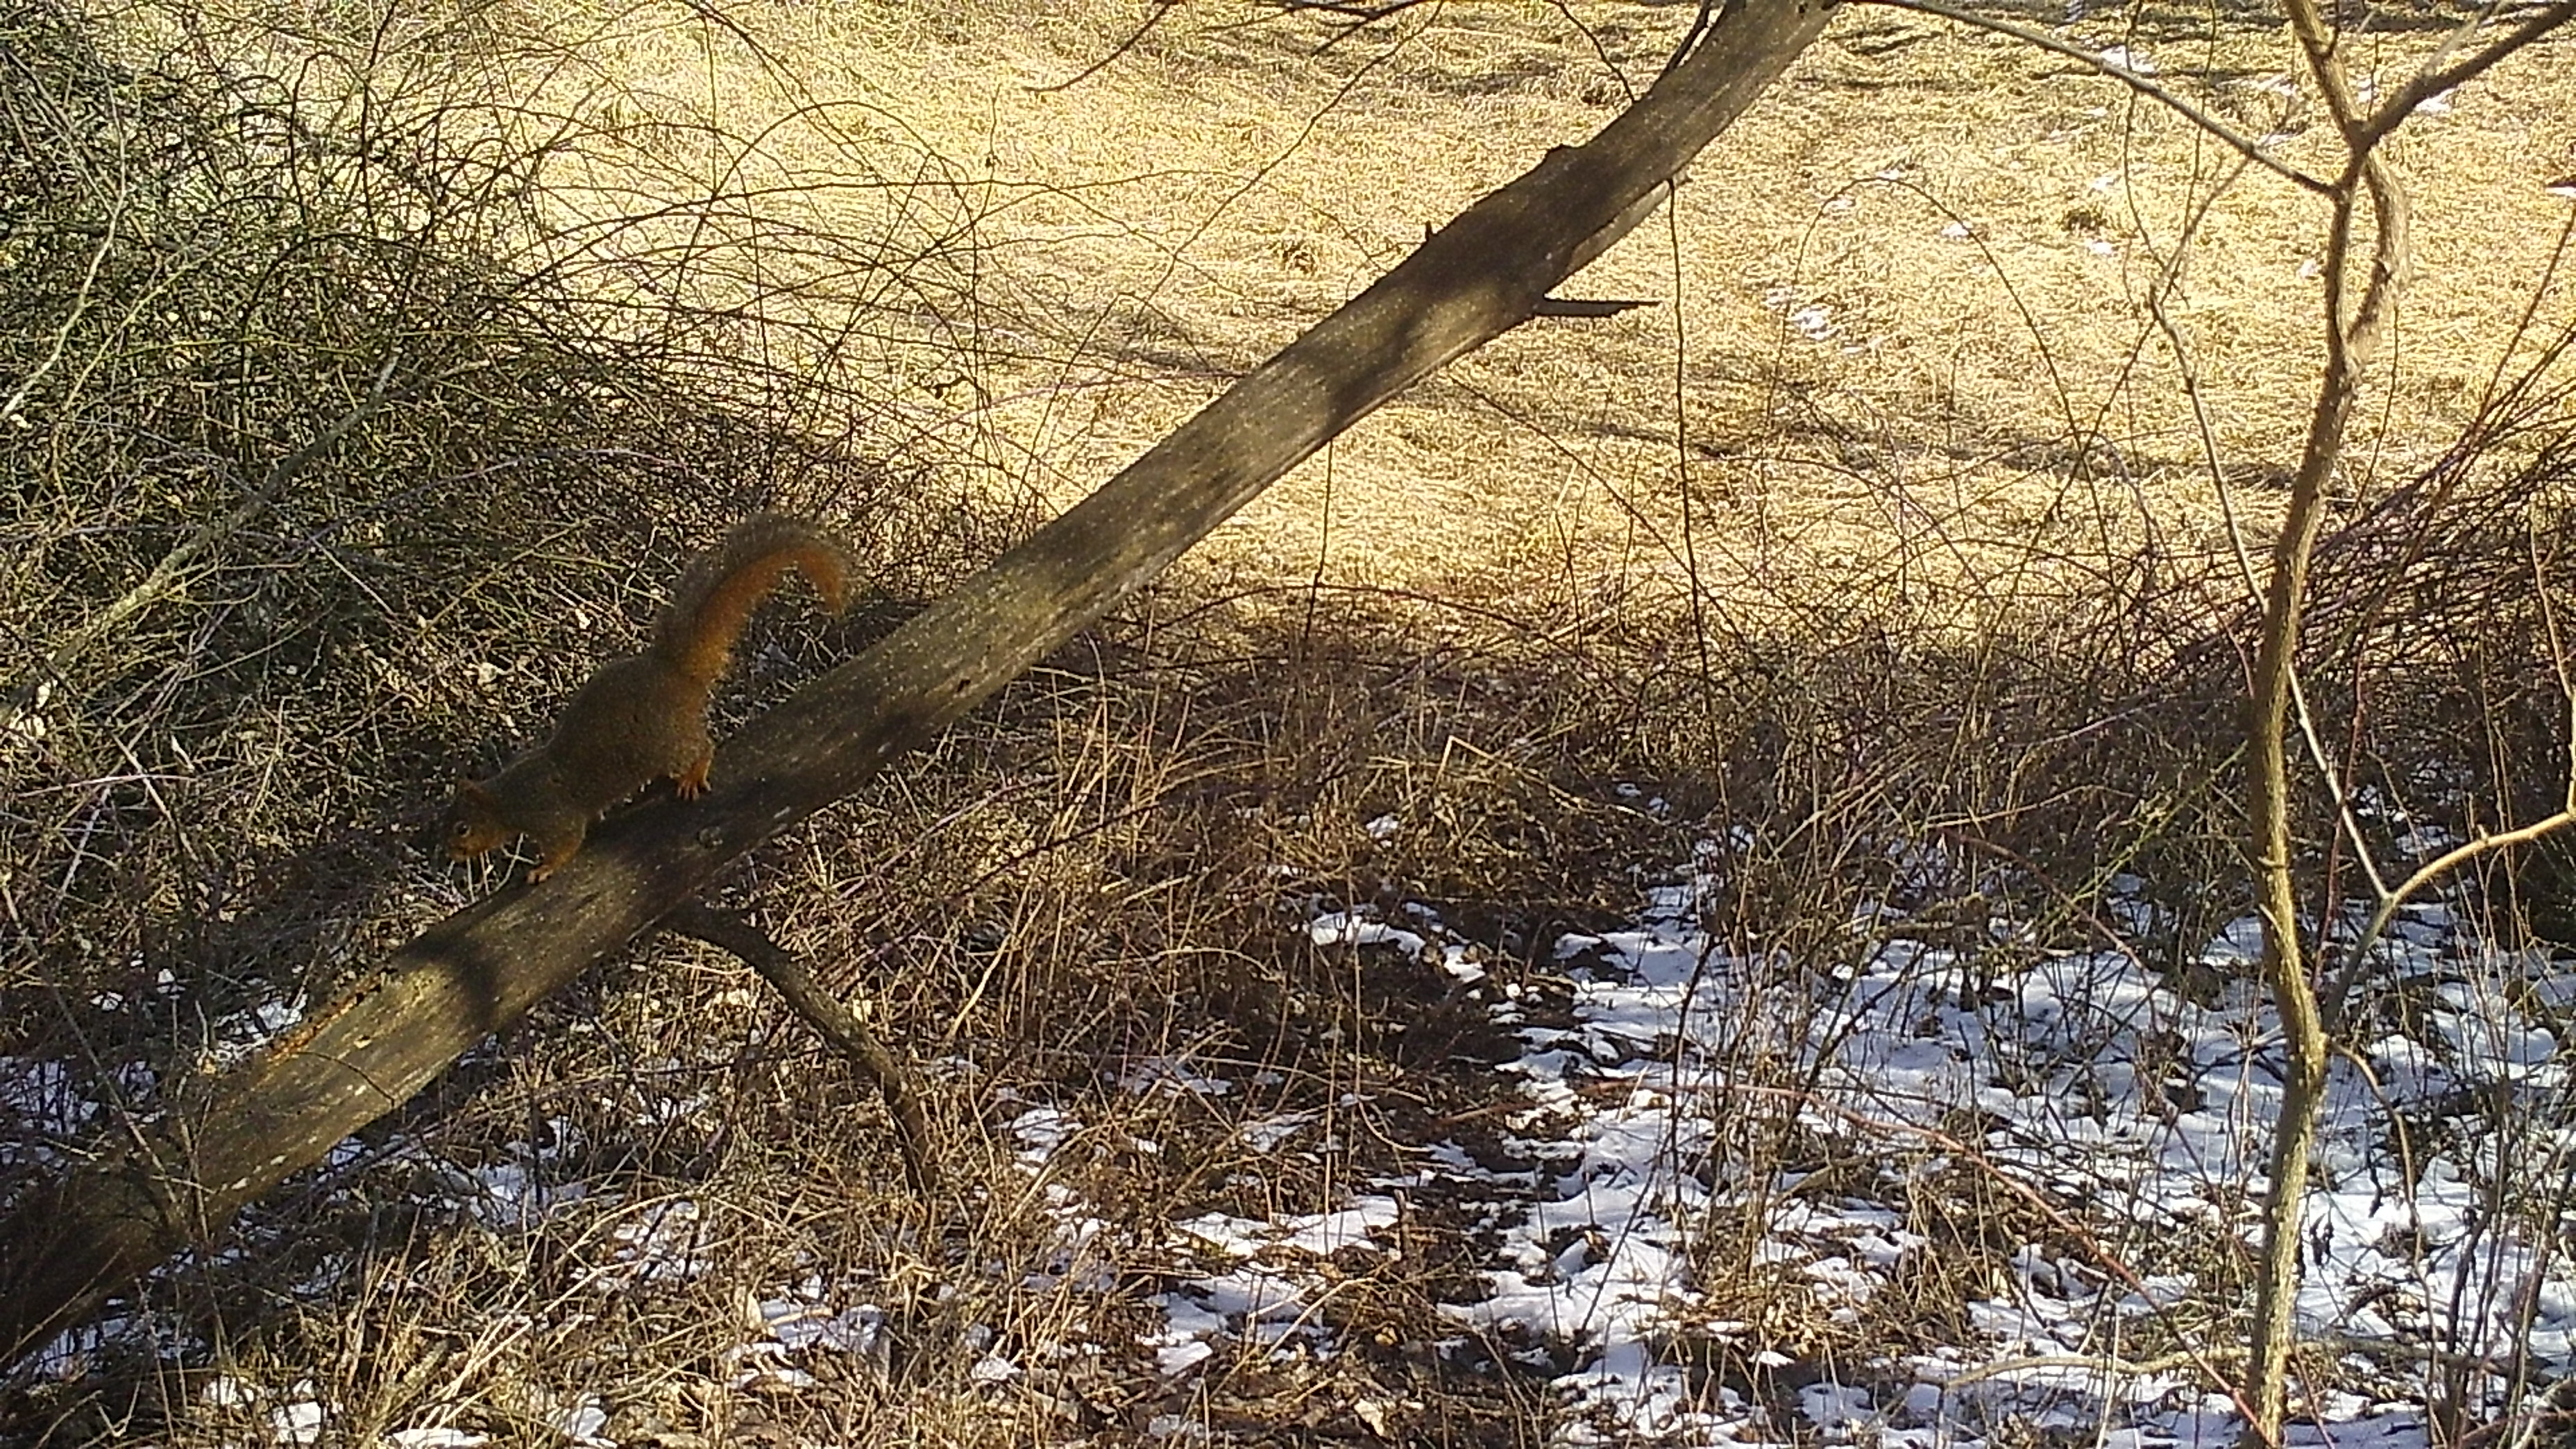Squirrel: (435, 502, 856, 872)
